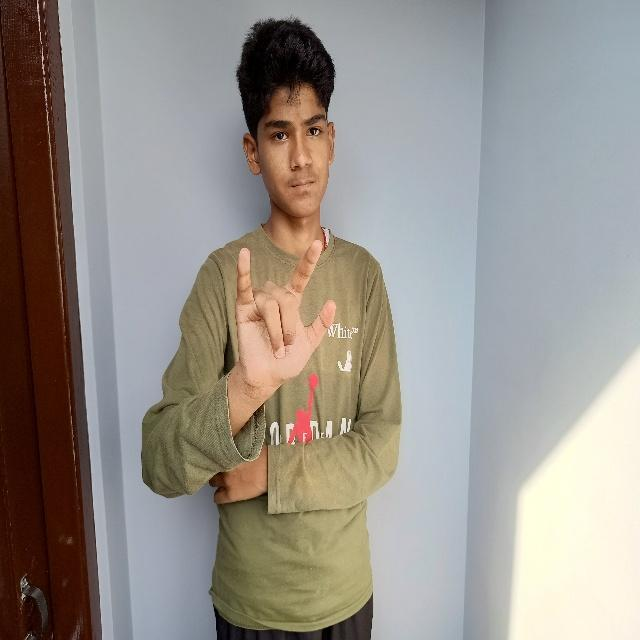Corna: (217, 235, 329, 400)
